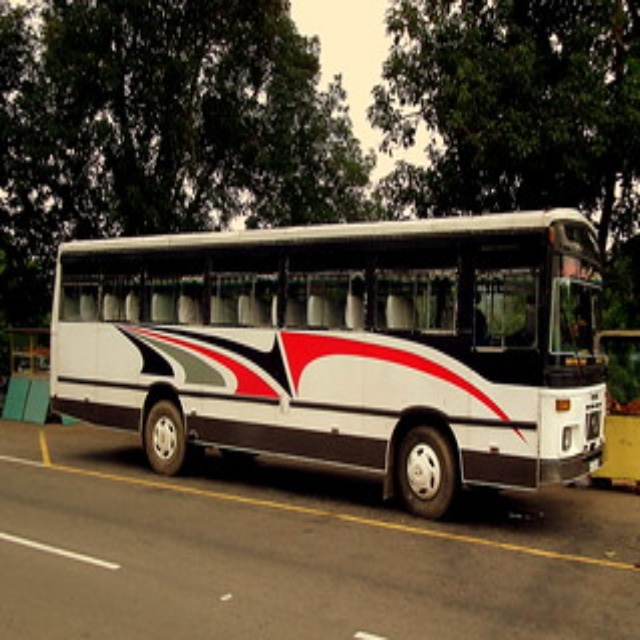Bus: (46, 208, 606, 520)
